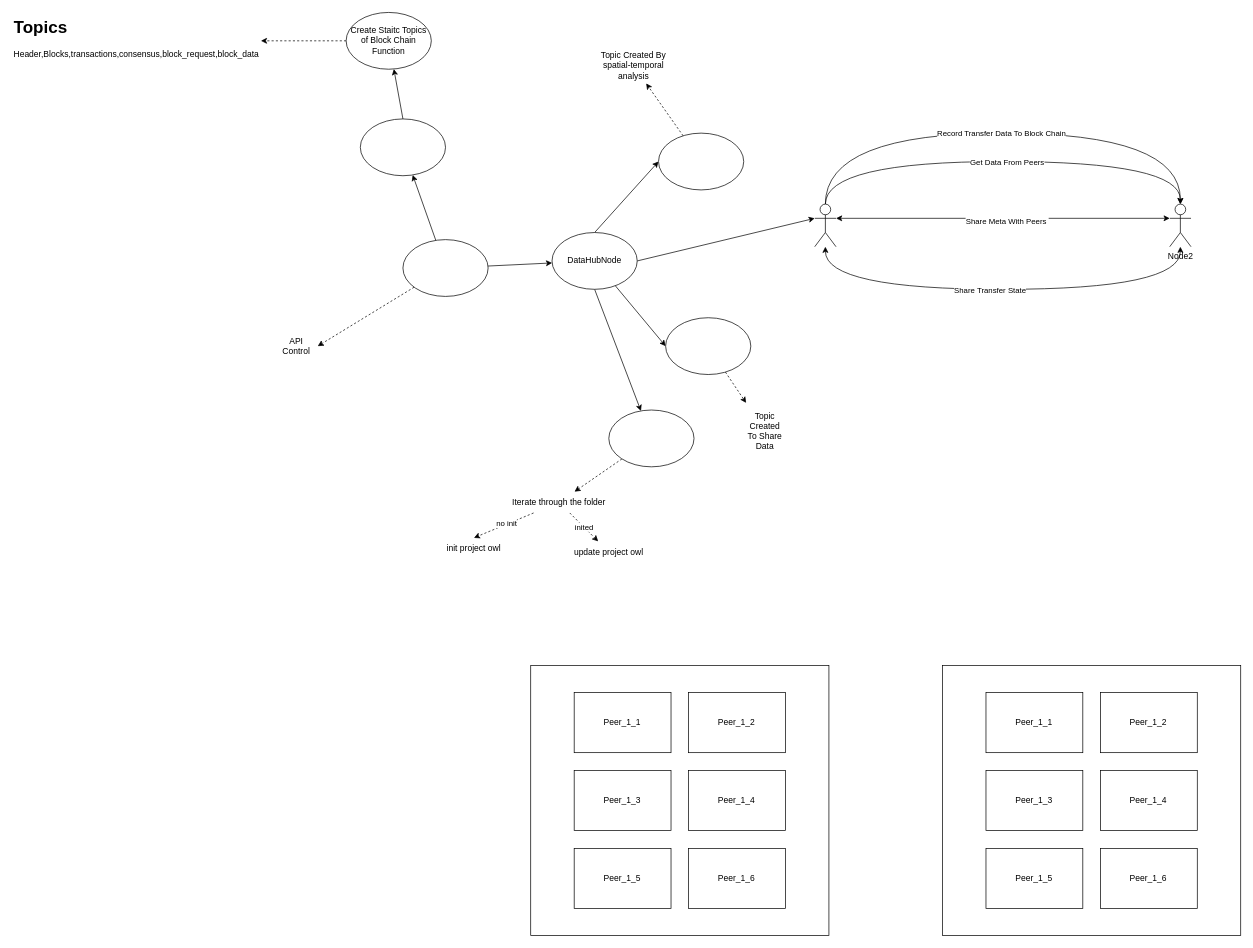
Some shapes in this 1253 by 948 pixel diagram are drawn without their labels. The shapes that lost their labels are listed below. From the top down, each one's centre as x and y in pixels, then its label:
At (x=403, y=147): "MinerNode".
At (x=701, y=161): "Create Staitc Topics Of Special Node".
At (x=825, y=225): "Node1".
At (x=445, y=267): "Start Node".
At (x=708, y=346): "Create custom Topic".
At (x=651, y=438): "Scan local peer for file management".
